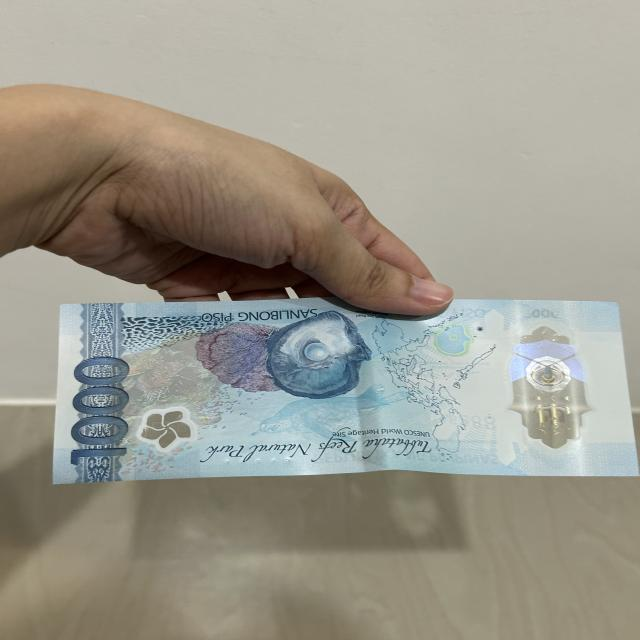clear_window: (508, 315, 594, 452)
sampaguita: (142, 409, 194, 452)
